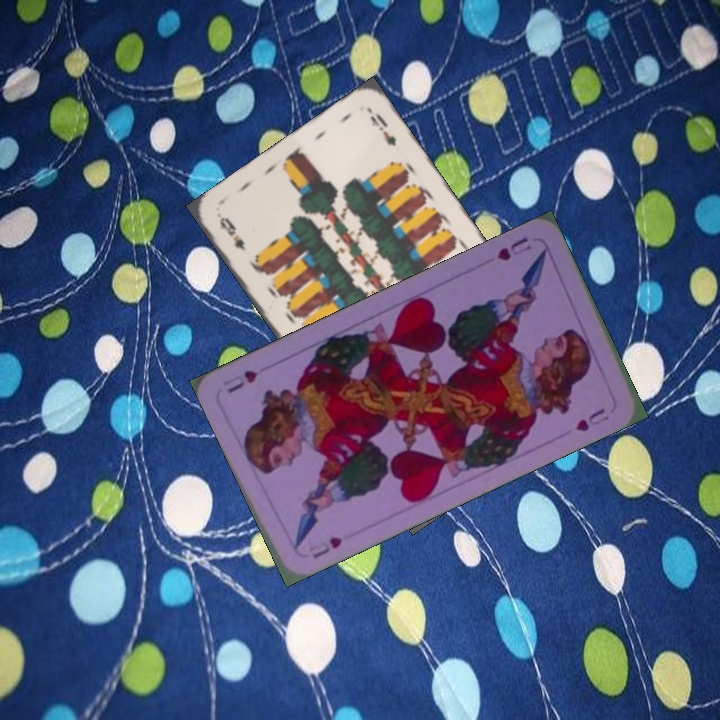E9: (215, 213, 249, 255)
HU: (493, 232, 534, 264), (304, 532, 345, 562)
